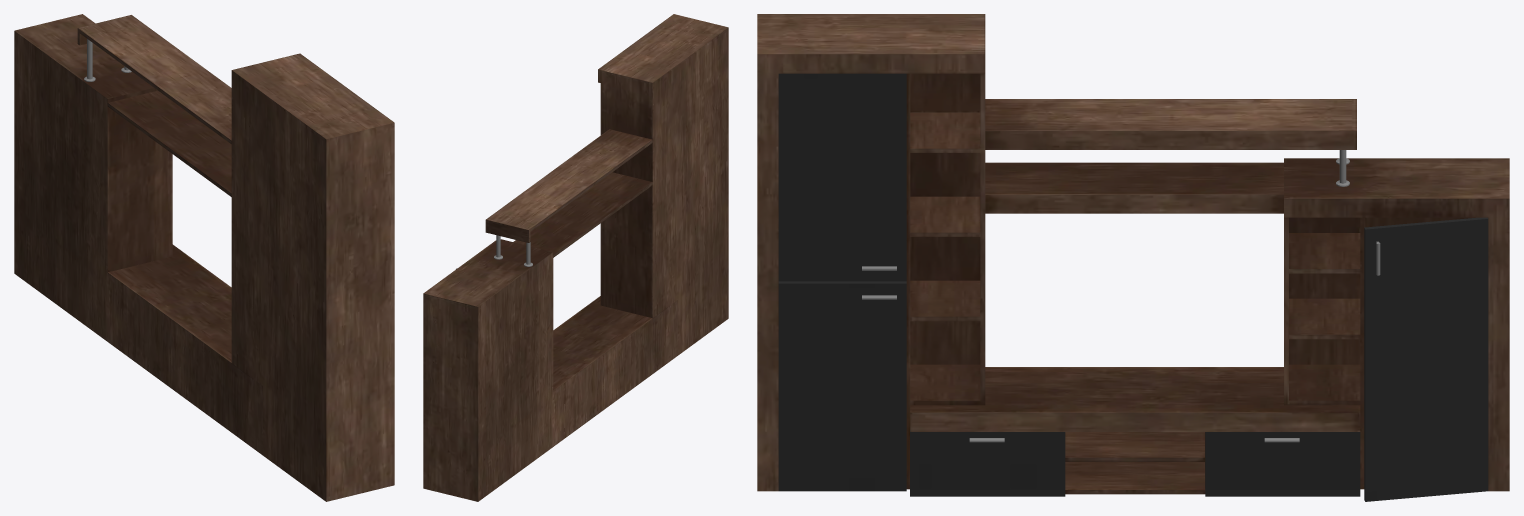
The picture shows the model from 3 angles, left to right: view 1: azimuth 30°, elevation 25°; view 2: azimuth 150°, elevation 25°; view 3: azimuth 270°, elevation 25°; orthographic projection. The views are drawn at different scales.
Parts seen in each view (by area): view 1: Shelf; view 2: Shelf; view 3: Shelf, ShelfDoor1, ShelfDoor2, ShelfDoor3, ShelfDoor5, ShelfDoor4.
Part boxes in pixels (left/top/right/bottom): Shelf: left=14, top=14, right=394, bottom=501; Shelf: left=423, top=14, right=728, bottom=501; Shelf: left=757, top=14, right=1509, bottom=494; ShelfDoor1: left=1364, top=217, right=1488, bottom=501; ShelfDoor2: left=778, top=281, right=906, bottom=491; ShelfDoor3: left=778, top=73, right=906, bottom=281; ShelfDoor5: left=910, top=430, right=1065, bottom=496; ShelfDoor4: left=1205, top=432, right=1360, bottom=496.
Bounding box in the file's own units: 0.4922 × 1.92 × 3.
3 materials, 2 textured.
